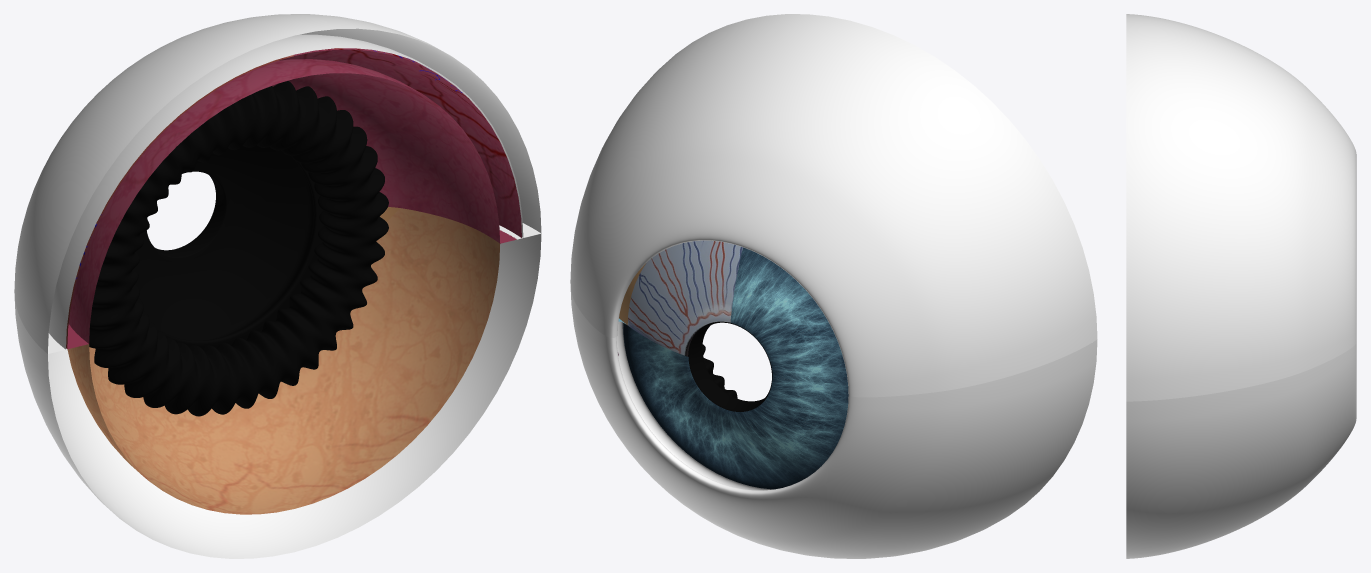
File: anterior_segment.glb
The picture shows the model from 3 angles, left to right: view 1: azimuth 30°, elevation 25°; view 2: azimuth 150°, elevation 25°; view 3: azimuth 270°, elevation 25°; orthographic projection. The views are drawn at different scales.
Visible parts, largest first — view 1: 1 ARTERIA interior; view 2: 1 ARTERIA interior; view 3: 1 ARTERIA interior.
Boxes of the visible parts, <box> form: 1 ARTERIA interior: <box>14,14,541,558</box>; 1 ARTERIA interior: <box>570,14,1097,558</box>; 1 ARTERIA interior: <box>1126,14,1356,558</box>.
Size of the model in its own units: 23.01 by 23.01 by 9.71.
12 materials, 10 textured.
